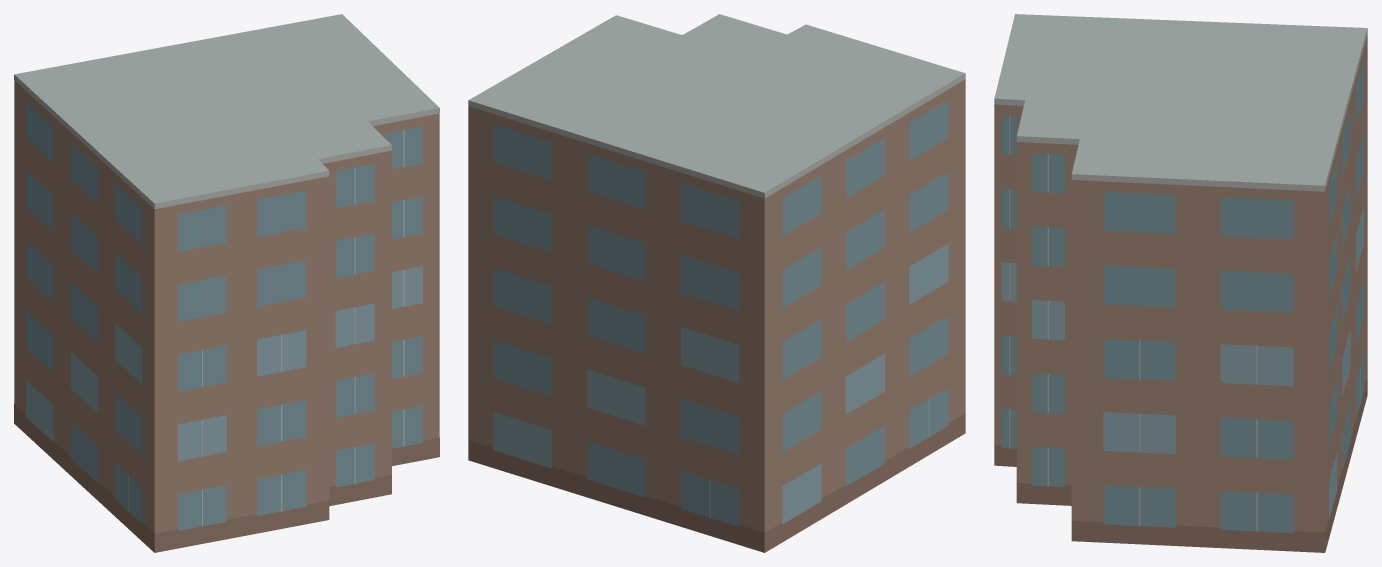
Rendered from survey-upis-32994540.glb.
3 renders of one model, left to right at view 1: azimuth 30°, elevation 25°; view 2: azimuth 150°, elevation 25°; view 3: azimuth 270°, elevation 25°, orthographic. The views are drawn at different scales.
Parts seen in each view (by area): view 1: survey-upis-32994540.tmp; view 2: survey-upis-32994540.tmp; view 3: survey-upis-32994540.tmp.
Part boxes in pixels (x1,y1,x2,y2): survey-upis-32994540.tmp: (14, 14, 439, 552); survey-upis-32994540.tmp: (468, 14, 965, 552); survey-upis-32994540.tmp: (994, 14, 1367, 552).
Size of the model in its own units: 15.32 by 15.25 by 14.07.
